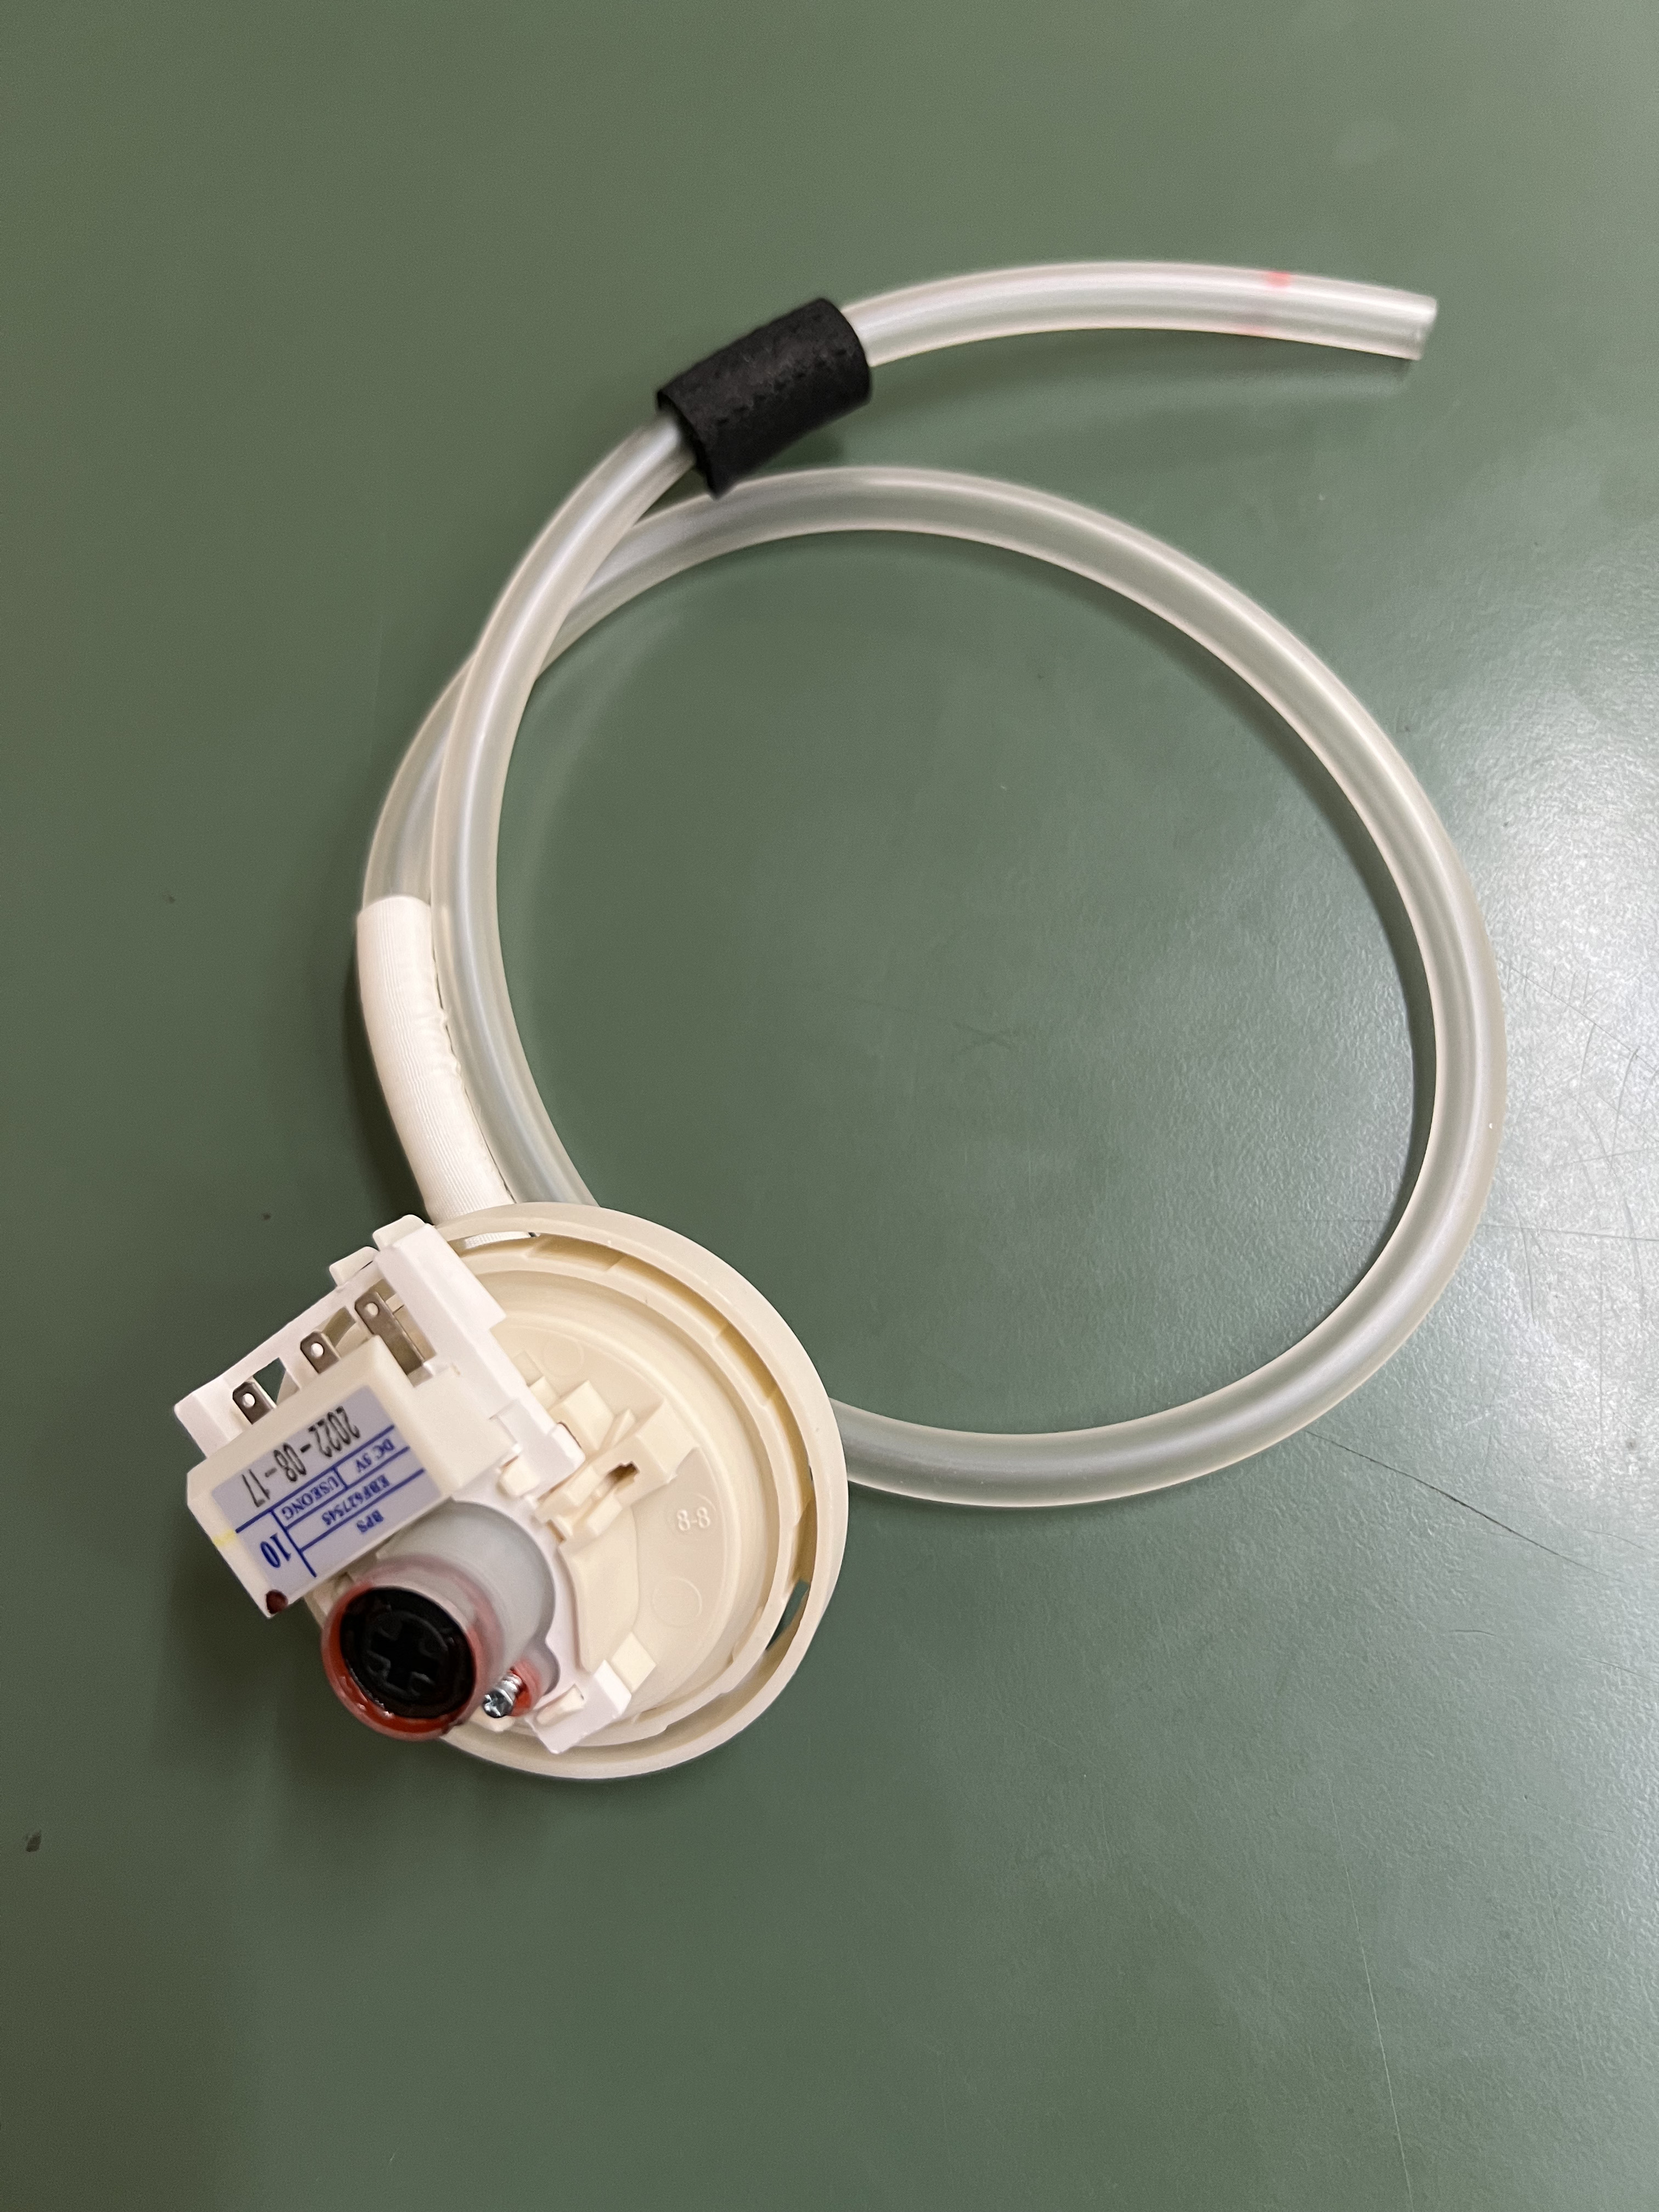pressure_sensor: (164, 1195, 894, 1785)
